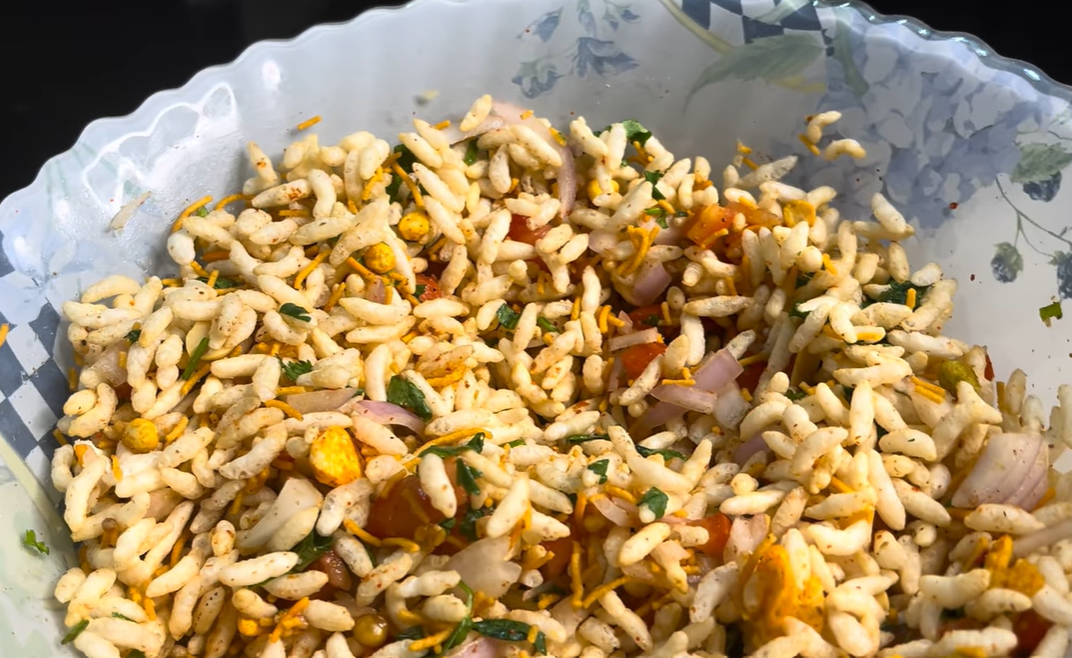chatpate: (87, 174, 1041, 651)
